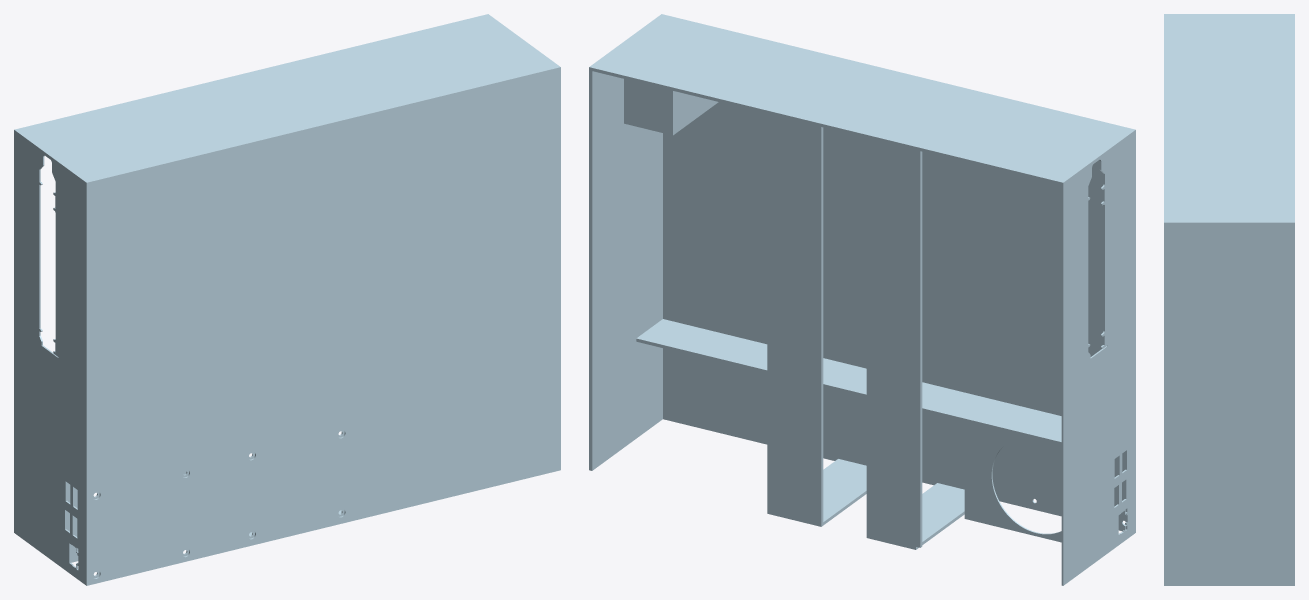
File: RPI Main Enclosure.gltf
3 renders of one model, left to right at view 1: azimuth 30°, elevation 25°; view 2: azimuth 150°, elevation 25°; view 3: azimuth 270°, elevation 25°, orthographic. The views are drawn at different scales.
Parts seen in each view (by area): view 1: Part 1; view 2: Part 1; view 3: Part 1.
Boxes of the visible parts, left/top/right/bottom form: Part 1: left=14, top=14, right=560, bottom=585; Part 1: left=589, top=14, right=1135, bottom=585; Part 1: left=1164, top=14, right=1294, bottom=585.
Bounding box in the file's own units: 0.3077 × 0.25 × 0.0816.
